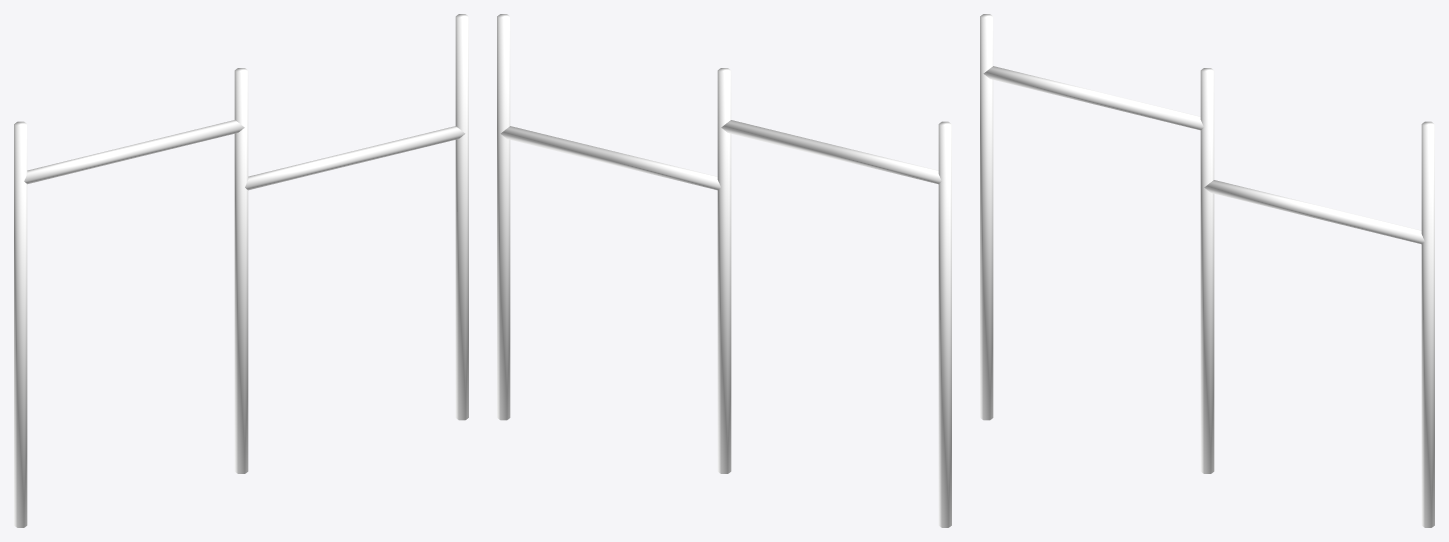
File: PullupBars.glb
3 renders of one model, left to right at view 1: azimuth 30°, elevation 25°; view 2: azimuth 150°, elevation 25°; view 3: azimuth 330°, elevation 25°, orthographic.
Parts seen in each view (by area): view 1: PullupBars; view 2: PullupBars; view 3: PullupBars.
Part boxes in pixels (x1,y1,x2,y2): PullupBars: (14, 14, 468, 527); PullupBars: (497, 14, 951, 527); PullupBars: (980, 14, 1434, 527).
Size of the model in its own units: 3.88 by 3.3 by 0.1.
1 material, 1 textured.
